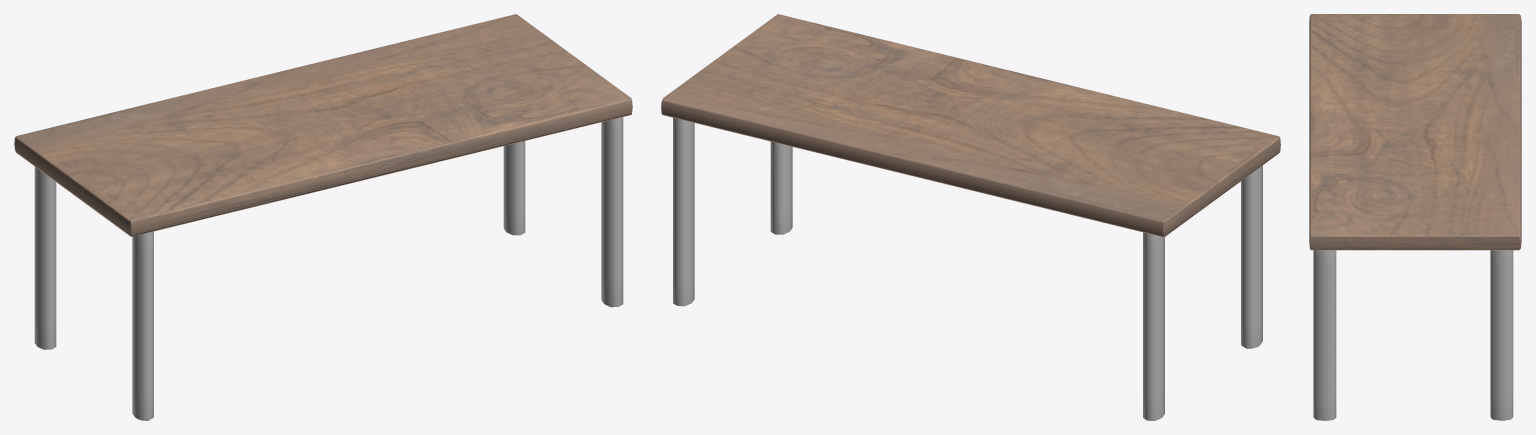
Rendered from Table.fbx.
The picture shows the model from 3 angles, left to right: view 1: azimuth 30°, elevation 25°; view 2: azimuth 150°, elevation 25°; view 3: azimuth 270°, elevation 25°; orthographic projection. The views are drawn at different scales.
Parts seen in each view (by area): view 1: pCube29; view 2: pCube29; view 3: pCube29.
Boxes of the visible parts, <box> form: pCube29: <box>14,14,632,420</box>; pCube29: <box>661,14,1280,420</box>; pCube29: <box>1309,14,1521,420</box>.
Size of the model in its own units: 18.26 by 7.24 by 7.38.
